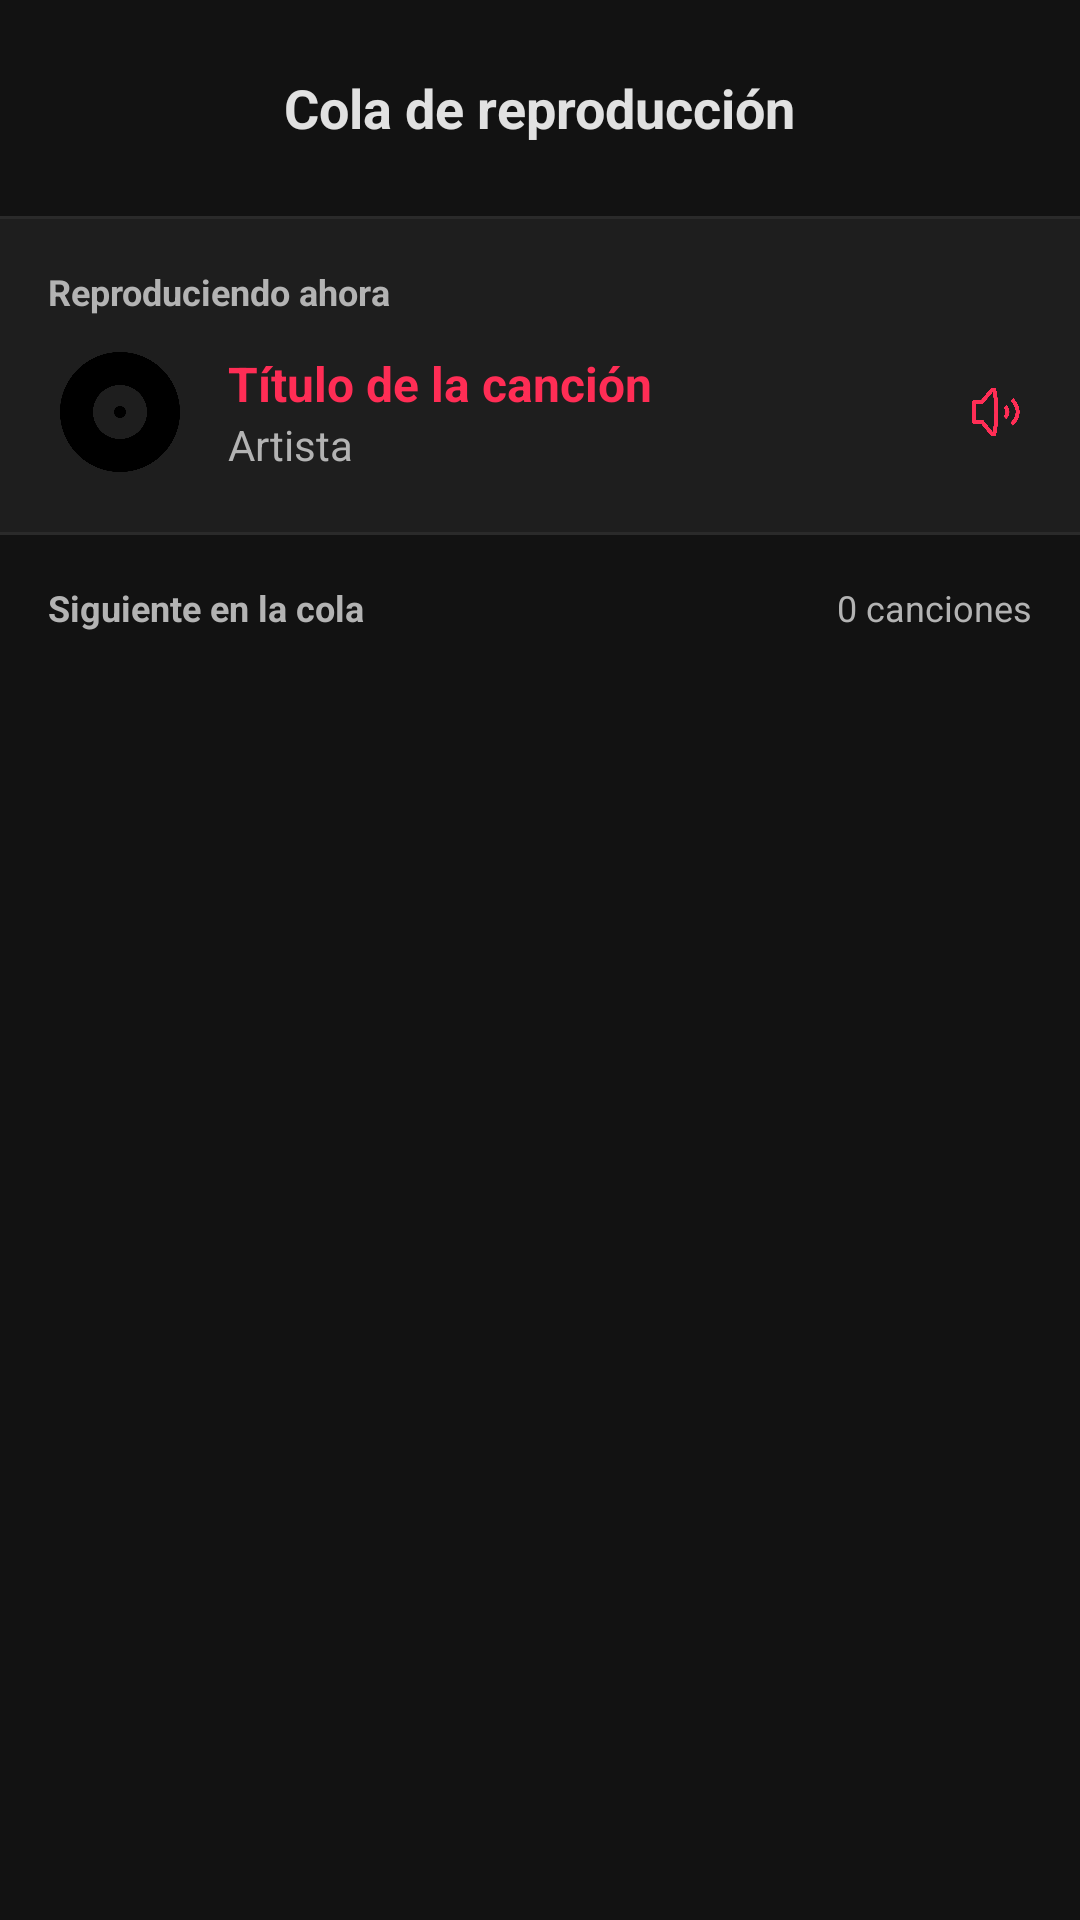

Icons on this 1080*1920 Android screen, each with the point to tap as point (x, y):
volume up: point (996, 412)
